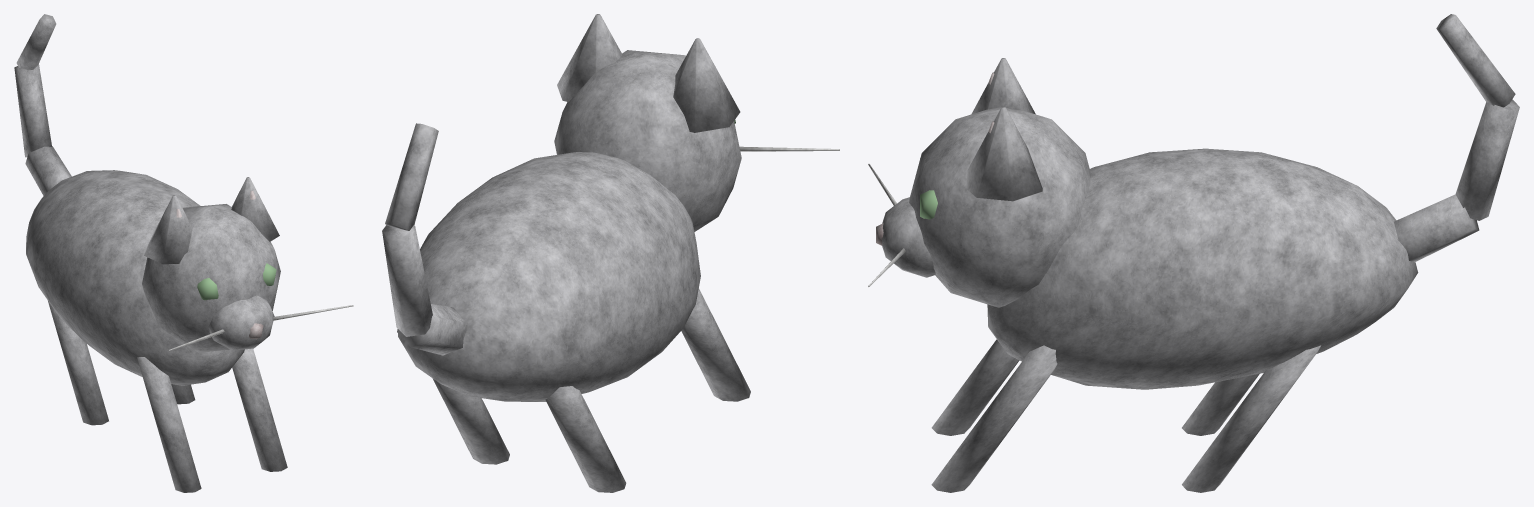
The model's file is mob_kucing_walk2.obj.
The picture shows the model from 3 angles, left to right: view 1: azimuth 30°, elevation 25°; view 2: azimuth 150°, elevation 25°; view 3: azimuth 270°, elevation 25°; orthographic projection. The views are drawn at different scales.
Parts seen in each view (by area): view 1: mob_kucing_walk2; view 2: mob_kucing_walk2; view 3: mob_kucing_walk2.
Boxes of the visible parts, <box> form: mob_kucing_walk2: <box>14,14,353,492</box>; mob_kucing_walk2: <box>382,14,839,492</box>; mob_kucing_walk2: <box>868,14,1519,492</box>.
Bounding box in the file's own units: 0.3741 × 0.63 × 0.8432.
1 material, 1 textured.
